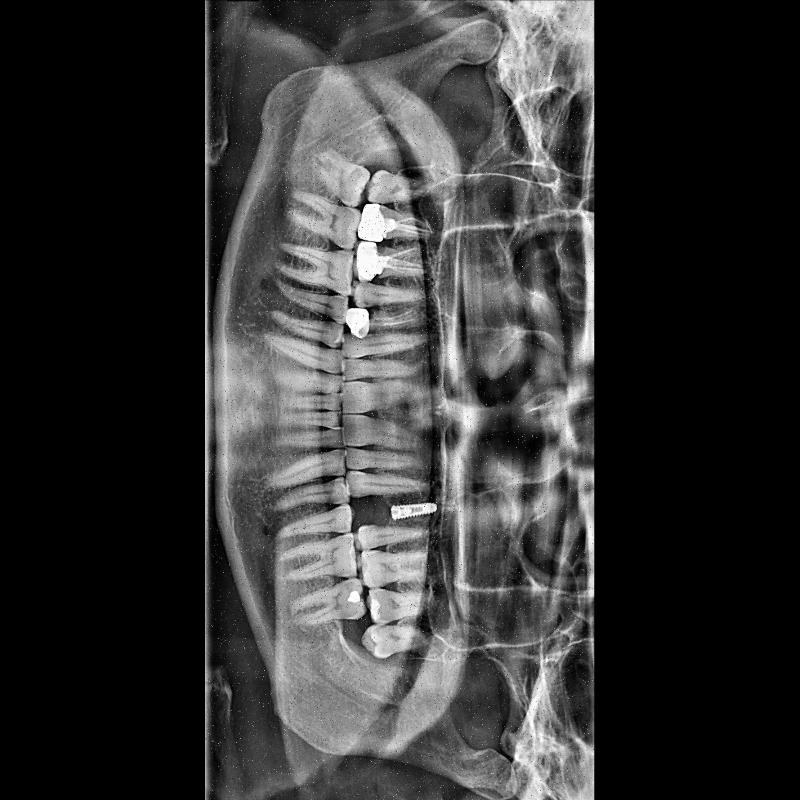osstem: (390, 496, 440, 522)
